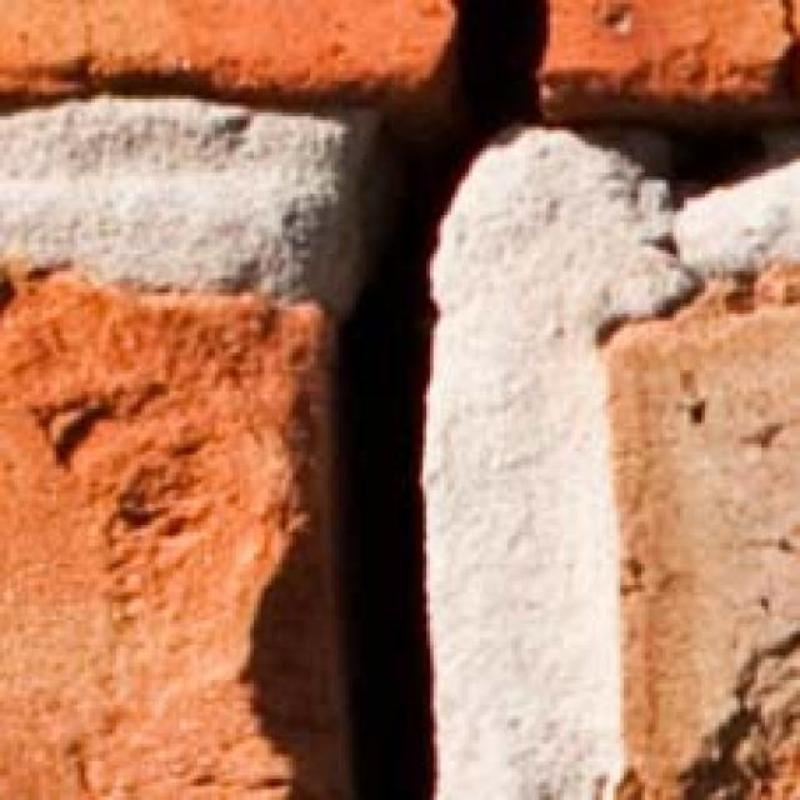crack: (334, 0, 544, 799)
